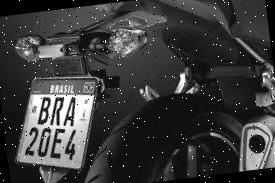placa_mercosul: (15, 76, 98, 170)
